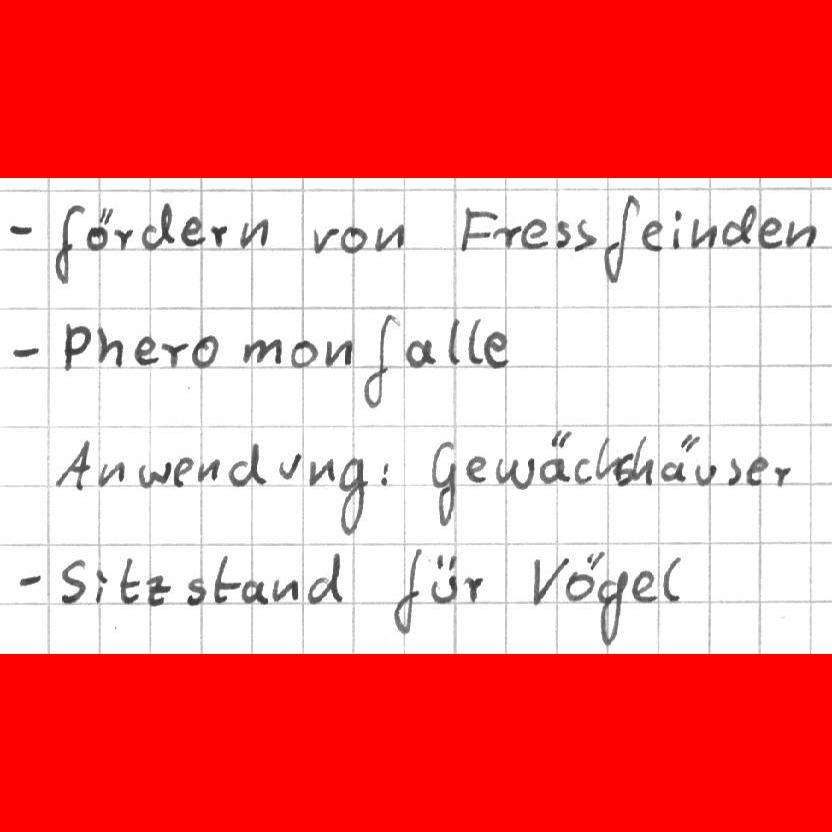Char: (361, 312, 402, 413), (600, 192, 640, 287), (389, 545, 426, 635), (428, 439, 460, 530), (53, 201, 85, 288), (337, 454, 369, 539), (595, 570, 629, 645), (51, 437, 94, 493), (528, 552, 569, 610), (306, 549, 347, 602), (538, 427, 574, 487), (563, 549, 602, 604), (460, 204, 499, 257), (138, 201, 177, 253), (225, 440, 267, 488), (659, 431, 695, 487), (61, 319, 94, 372), (719, 203, 757, 249), (56, 555, 89, 606), (428, 551, 458, 605), (243, 334, 290, 368), (494, 453, 535, 491), (212, 551, 241, 604), (85, 206, 113, 255), (237, 213, 273, 250), (481, 326, 511, 370), (117, 554, 142, 606), (632, 434, 656, 488), (95, 324, 124, 368), (519, 216, 554, 252), (371, 218, 406, 253), (323, 336, 357, 372), (402, 335, 437, 369), (308, 222, 341, 257), (137, 458, 172, 490), (753, 215, 783, 252), (143, 572, 173, 609), (687, 216, 719, 250), (661, 554, 682, 604), (638, 217, 667, 253), (630, 567, 658, 604), (784, 217, 816, 249), (190, 335, 221, 368), (290, 336, 321, 369), (306, 456, 338, 487), (596, 434, 615, 485), (131, 333, 160, 366), (466, 314, 484, 366), (743, 453, 769, 489), (160, 340, 189, 372), (96, 458, 128, 487), (445, 315, 463, 366), (340, 222, 368, 254), (571, 218, 597, 252), (180, 215, 206, 248), (186, 572, 210, 607), (240, 578, 270, 606), (493, 222, 521, 251), (270, 575, 298, 603), (615, 448, 634, 489), (277, 451, 303, 480), (692, 458, 717, 488), (197, 456, 222, 485), (464, 453, 487, 484), (92, 565, 110, 604), (174, 456, 195, 489), (554, 218, 573, 254), (463, 572, 484, 604), (208, 221, 229, 250), (111, 226, 134, 251), (573, 454, 591, 485), (772, 458, 790, 488), (726, 454, 742, 487), (16, 570, 43, 588), (671, 207, 682, 250), (376, 460, 392, 489), (9, 344, 41, 358), (8, 222, 35, 237)
